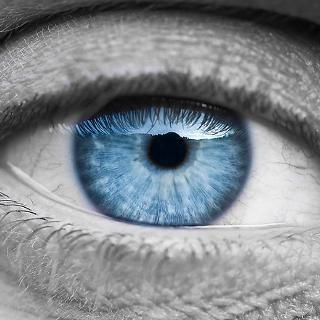iris: (73, 59, 254, 240)
